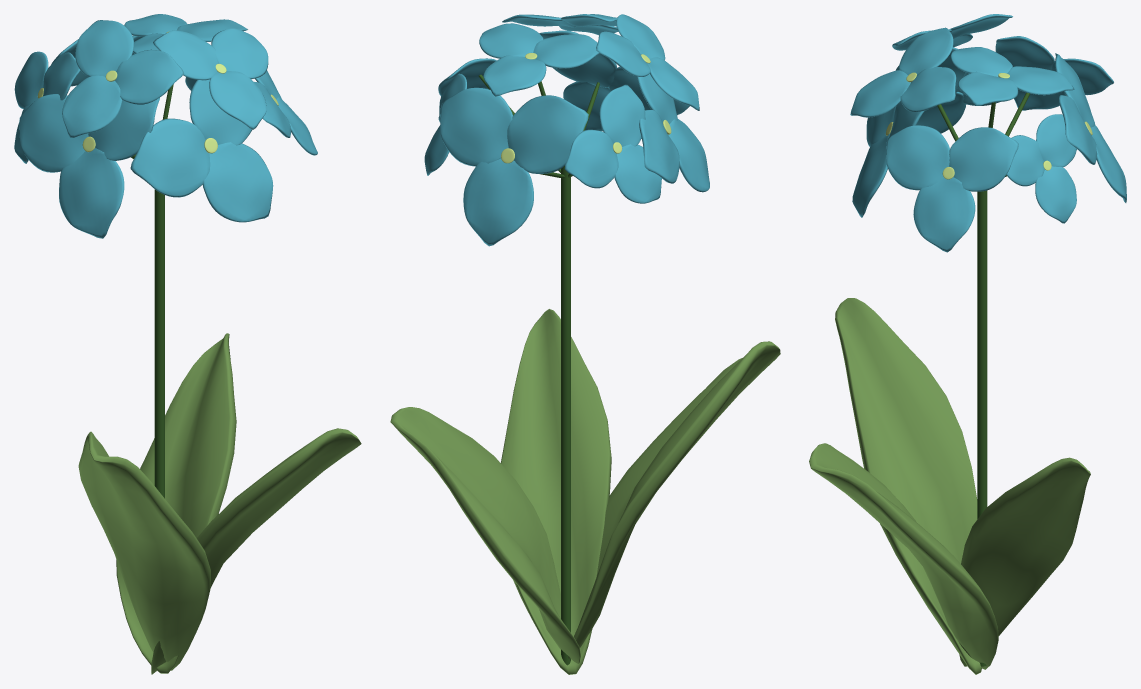
The model's file is flower2.fbx.
3 views of the same model, side by side, from view 1: azimuth 30°, elevation 25°; view 2: azimuth 150°, elevation 25°; view 3: azimuth 270°, elevation 25° (orthographic). The views are drawn at different scales.
Visible parts, largest first — view 1: flower11_group11_pCylinder9, flower11_group47_leaf5, pCylinder5; view 2: flower11_group47_leaf5, flower11_group11_pCylinder9, pCylinder5; view 3: flower11_group47_leaf5, flower11_group11_pCylinder9, pCylinder5.
Boxes of the visible parts, box(x1,y1,x2,y2) form: flower11_group11_pCylinder9: box(14, 14, 317, 238); flower11_group47_leaf5: box(78, 333, 361, 674); pCylinder5: box(154, 189, 164, 498); flower11_group47_leaf5: box(390, 309, 780, 674); flower11_group11_pCylinder9: box(424, 14, 709, 246); pCylinder5: box(561, 166, 570, 665); flower11_group47_leaf5: box(809, 298, 1090, 674); flower11_group11_pCylinder9: box(850, 14, 1126, 252); pCylinder5: box(977, 190, 987, 666).
Bounding box in the file's own units: 13.38 × 29.85 × 13.46.
